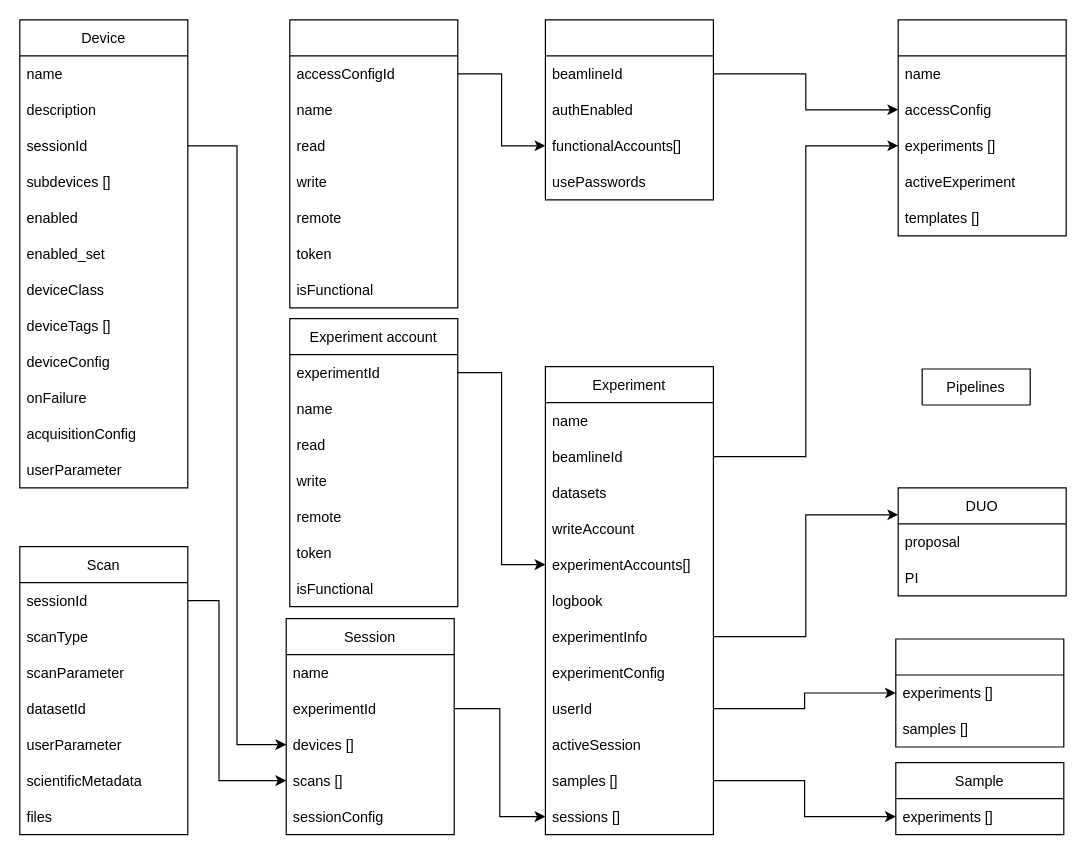
Image size: 1086x854. Some labels were removed from this diagram. Each missing label, with the box of its shape:
Beamline: (897, 19, 1066, 236)
Beamline access config: (544, 19, 713, 200)
Functional account: (289, 19, 458, 308)
User: (895, 638, 1064, 747)
